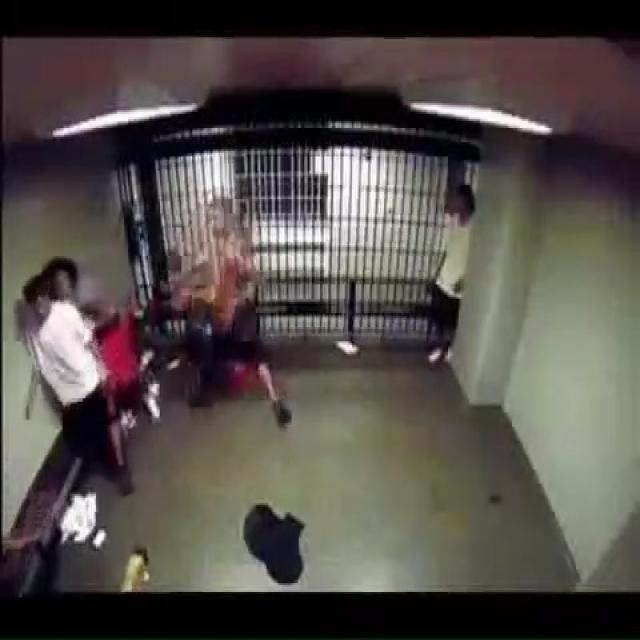fight: (147, 222, 310, 427)
